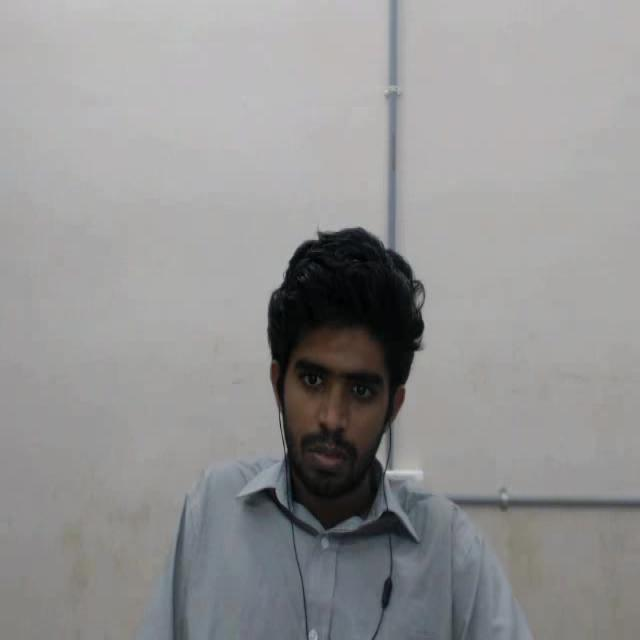Engaged: (251, 194, 452, 536)
